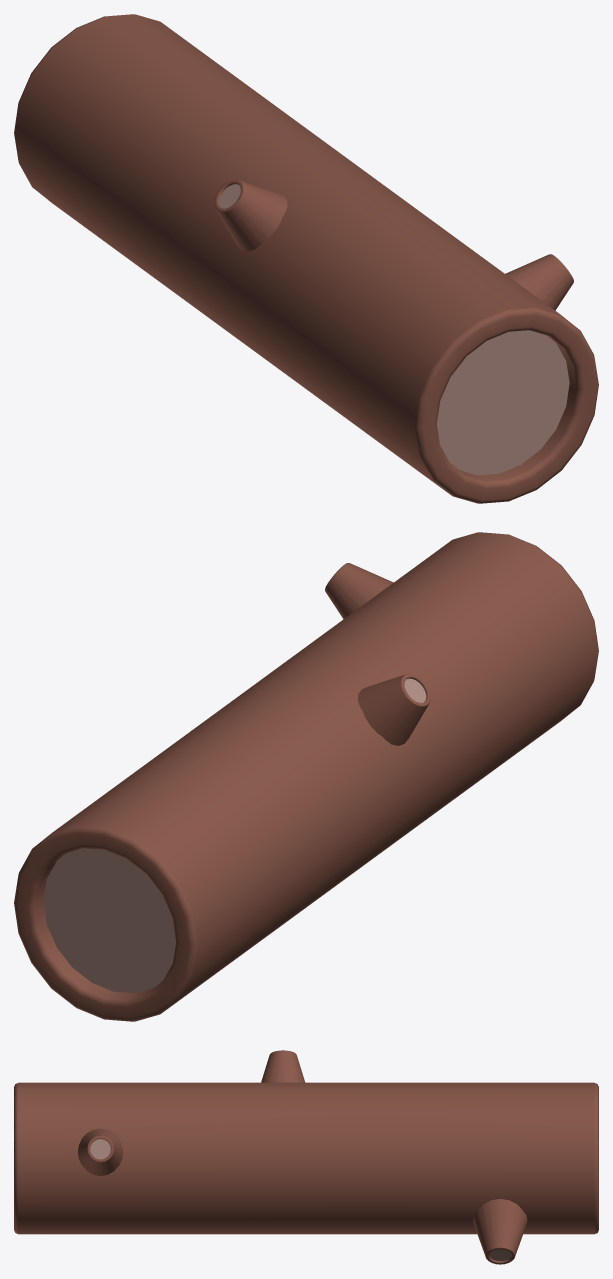
The model's file is Farm_17_Log_3.glb.
3 views of the same model, one above another, from view 1: azimuth 30°, elevation 25°; view 2: azimuth 150°, elevation 25°; view 3: azimuth 270°, elevation 25° (orthographic). The views are drawn at different scales.
Visible parts, largest first — view 1: Farm_17_Log_3; view 2: Farm_17_Log_3; view 3: Farm_17_Log_3.
Boxes of the visible parts, x1=… form: Farm_17_Log_3: x1=14, y1=14, x2=598, y2=503; Farm_17_Log_3: x1=14, y1=532, x2=598, y2=1021; Farm_17_Log_3: x1=14, y1=1050, x2=598, y2=1264.
Bounding box in the file's own units: 0.6126 × 0.5066 × 1.81.
1 material, 1 textured.
